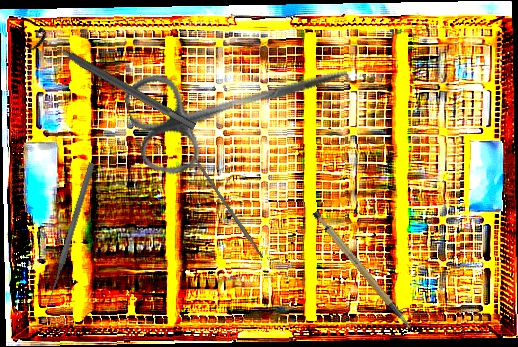Fixation Ring: (27, 25, 202, 140)
Iris Scissors: (119, 19, 362, 184)
Pusher: (44, 161, 97, 304)
Scalpel Handle: (310, 199, 412, 343), (191, 155, 265, 260)
